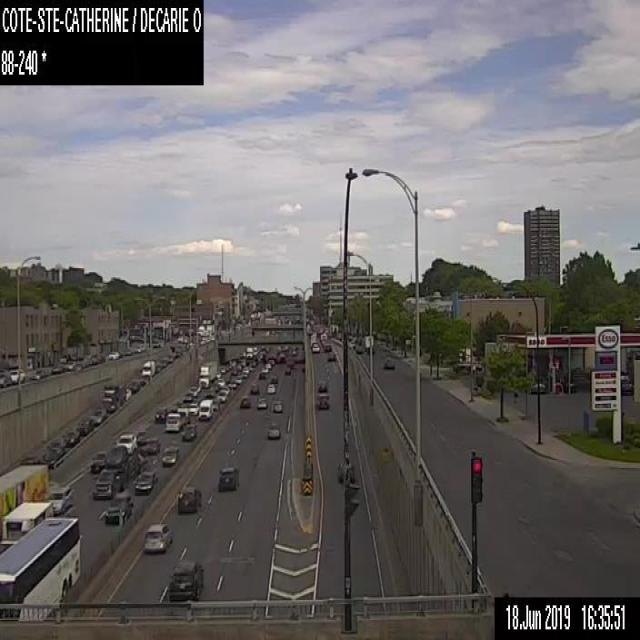bus: (0, 516, 80, 620)
vehicle: (0, 501, 53, 555), (0, 464, 47, 516), (168, 561, 203, 600), (104, 491, 133, 525), (93, 468, 122, 497), (142, 522, 172, 550), (101, 382, 125, 412), (48, 485, 74, 511), (177, 486, 201, 514), (217, 466, 240, 491), (165, 407, 188, 431), (134, 470, 156, 493), (198, 360, 216, 386), (105, 445, 126, 465), (44, 441, 63, 463), (116, 433, 136, 451), (180, 422, 196, 442), (198, 398, 212, 420), (76, 417, 93, 435), (91, 451, 106, 471), (162, 446, 178, 464), (62, 429, 78, 447), (619, 374, 632, 394), (141, 360, 154, 378), (10, 368, 25, 383), (20, 456, 40, 466), (0, 369, 11, 387), (317, 392, 329, 408), (92, 408, 105, 422), (529, 382, 545, 393), (154, 408, 166, 422), (268, 424, 280, 437), (31, 369, 48, 378), (384, 357, 394, 371), (128, 380, 139, 392), (239, 396, 250, 408), (217, 389, 227, 402), (75, 356, 86, 367), (64, 360, 76, 370), (188, 385, 200, 395), (188, 402, 198, 414), (50, 365, 64, 373), (273, 400, 283, 411), (92, 353, 101, 364), (148, 339, 159, 348), (257, 397, 266, 408), (317, 380, 326, 391), (182, 392, 192, 401), (108, 351, 119, 359), (135, 343, 144, 352), (206, 324, 214, 334), (250, 383, 258, 393), (326, 351, 334, 361), (267, 383, 275, 392), (197, 326, 204, 336), (217, 377, 224, 386), (246, 346, 252, 356), (270, 375, 277, 383), (228, 381, 236, 388), (312, 343, 319, 351), (324, 343, 331, 351), (235, 375, 241, 383), (279, 354, 285, 362), (284, 367, 290, 374), (242, 366, 248, 373), (126, 388, 130, 398), (220, 365, 225, 373), (125, 348, 131, 354), (264, 362, 270, 368), (258, 372, 264, 378), (261, 366, 267, 372), (177, 335, 182, 341), (217, 372, 220, 376)
